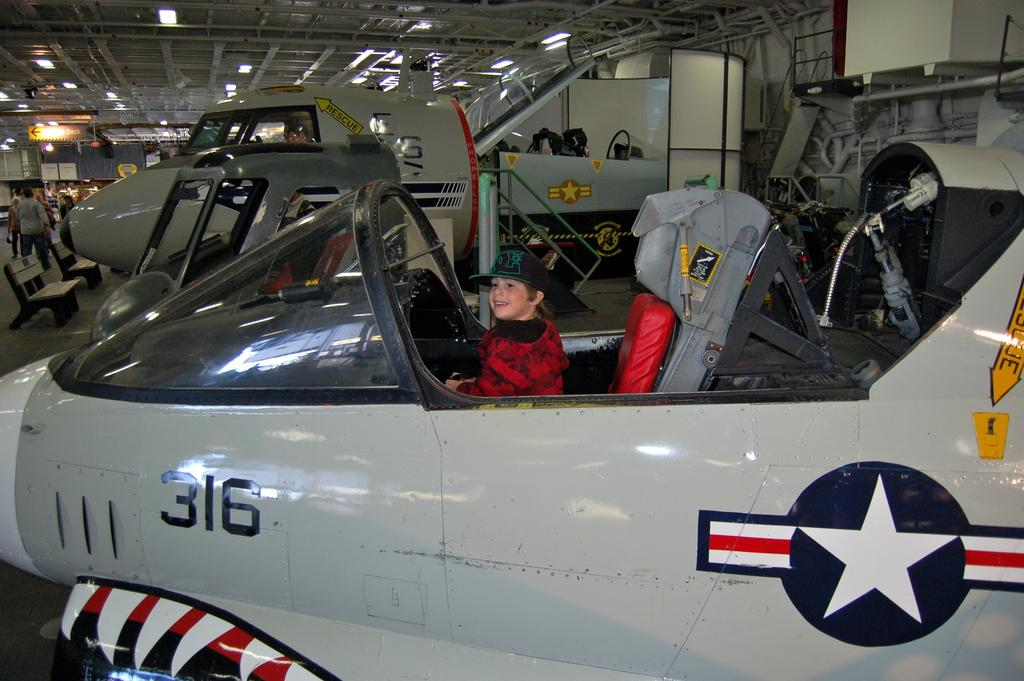Hat: (469, 247, 543, 282)
